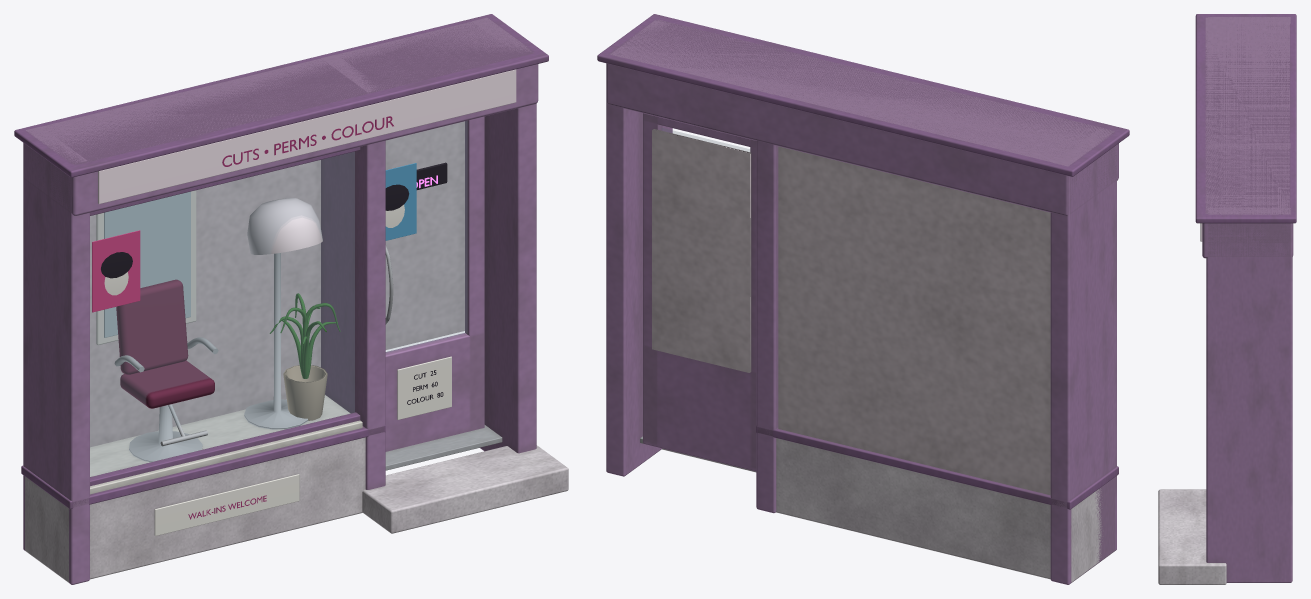
File: fryzjer_witryna.glb
3 renders of one model, left to right at view 1: azimuth 30°, elevation 25°; view 2: azimuth 150°, elevation 25°; view 3: azimuth 270°, elevation 25°, orthographic. The views are drawn at different scales.
Parts seen in each view (by area): view 1: Witryna, Szyby, Towar, Napisy; view 2: Witryna; view 3: Witryna.
Boxes of the visible parts, box(x1,y1,x2,y2) form: Witryna: box(14, 14, 568, 584); Szyby: box(90, 121, 467, 476); Towar: box(92, 69, 516, 535); Napisy: box(188, 116, 443, 519); Witryna: box(597, 14, 1129, 584); Witryna: box(1158, 14, 1296, 584).
Bounding box in the file's own units: 2.98 × 2.5 × 0.85.
22 materials, 1 textured.
